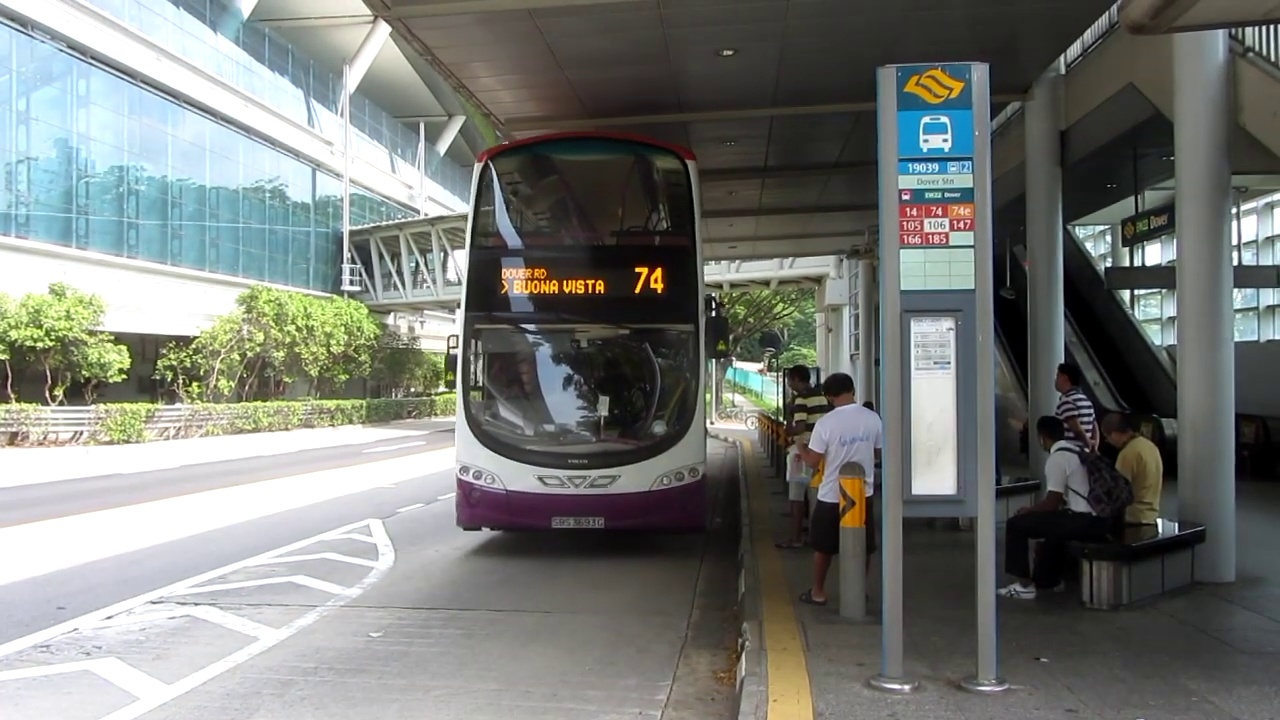bus panel: (493, 263, 671, 301)
